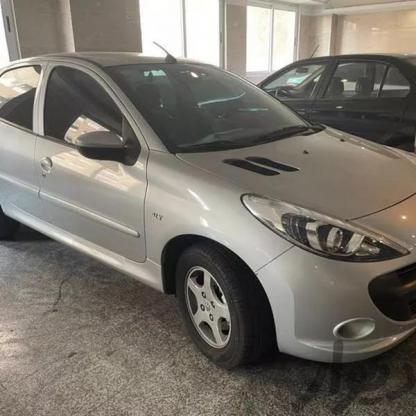Car: (0, 6, 416, 366), (265, 36, 416, 154)
